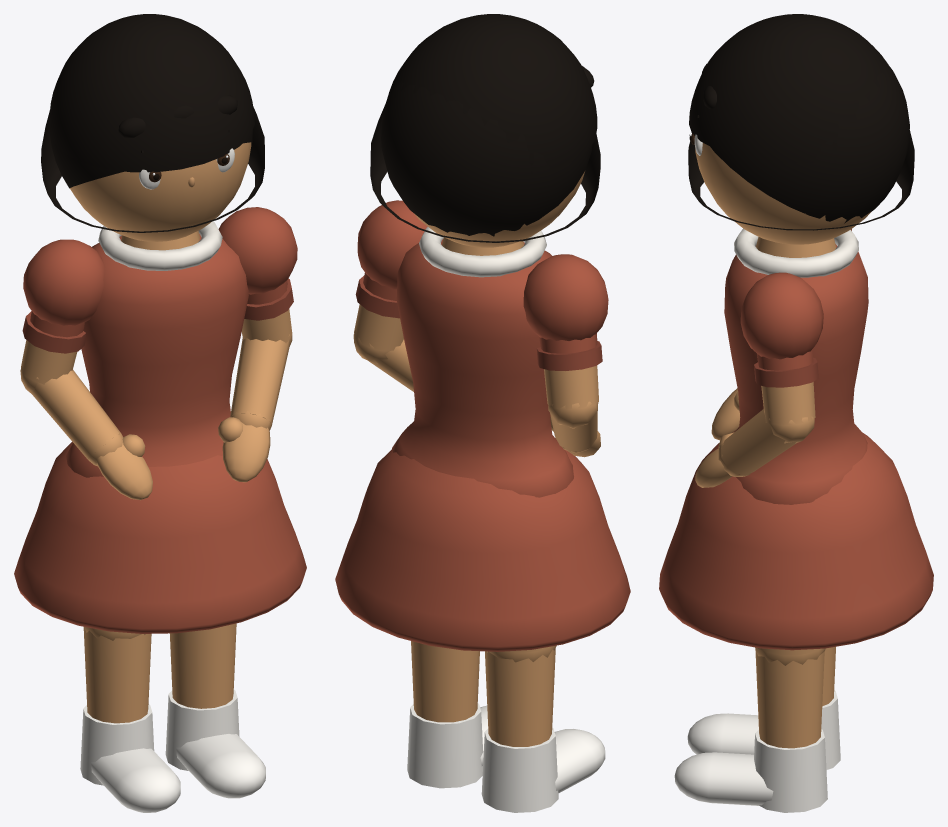
Rendered from 21-wulan.glb.
3 renders of one model, left to right at view 1: azimuth 30°, elevation 25°; view 2: azimuth 150°, elevation 25°; view 3: azimuth 270°, elevation 25°, orthographic. The views are drawn at different scales.
Visible parts, largest first — view 1: Wulan, skull, elbow (×2), armR, armL; view 2: Wulan, skull, armR, armL, elbow (×2); view 3: Wulan, skull, armL, elbow (×2).
Part boxes in pixels (left/top/right/bottom): Wulan: left=14, top=221, right=306, bottom=812; skull: left=41, top=14, right=264, bottom=241; elbow (×2): left=20, top=334, right=292, bottom=500; armR: left=21, top=239, right=105, bottom=383; armL: left=218, top=207, right=297, bottom=342; Wulan: left=335, top=227, right=630, bottom=812; skull: left=370, top=14, right=600, bottom=247; armR: left=523, top=254, right=608, bottom=409; armL: left=354, top=200, right=427, bottom=351; elbow (×2): left=353, top=330, right=600, bottom=457; Wulan: left=659, top=228, right=933, bottom=812; skull: left=688, top=14, right=914, bottom=244; armL: left=740, top=272, right=823, bottom=424; elbow (×2): left=695, top=388, right=814, bottom=487.
Size of the model in its own units: 0.3604 by 1.01 by 0.3313.
